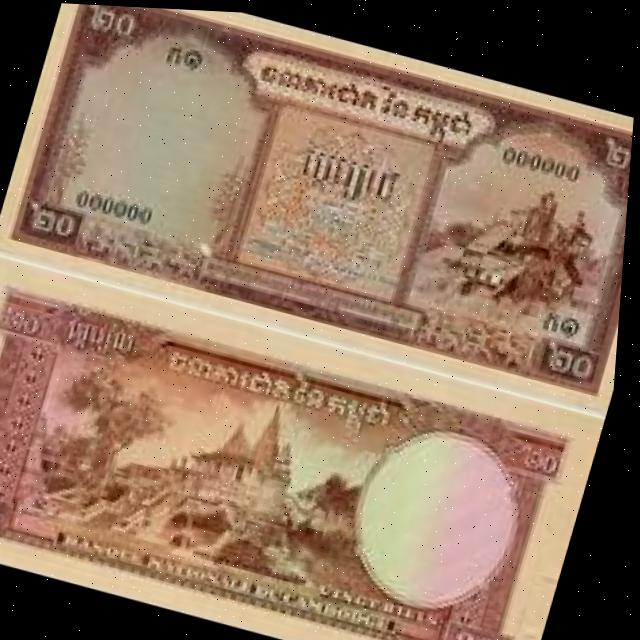banknote: (0, 0, 640, 411), (0, 256, 614, 640), (448, 612, 528, 640), (0, 481, 29, 535)
